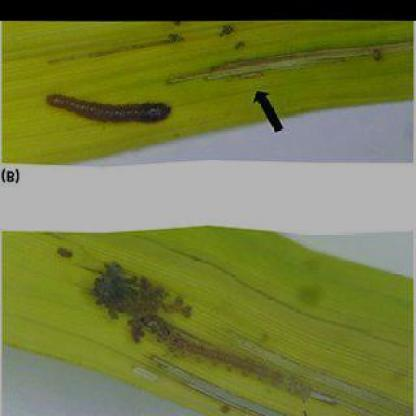leaf-folder: (170, 327, 282, 386), (40, 86, 177, 131), (86, 252, 160, 334), (226, 58, 269, 90)
